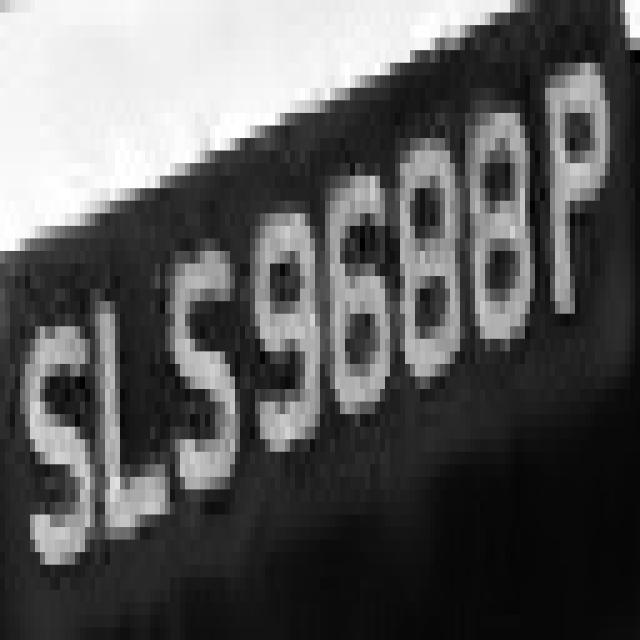6: (315, 138, 400, 439)
8: (380, 100, 475, 427), (455, 100, 540, 402)
9: (230, 163, 320, 502)
L: (90, 251, 180, 577)
P: (535, 13, 625, 326)
S: (160, 213, 250, 527), (10, 302, 100, 602)
